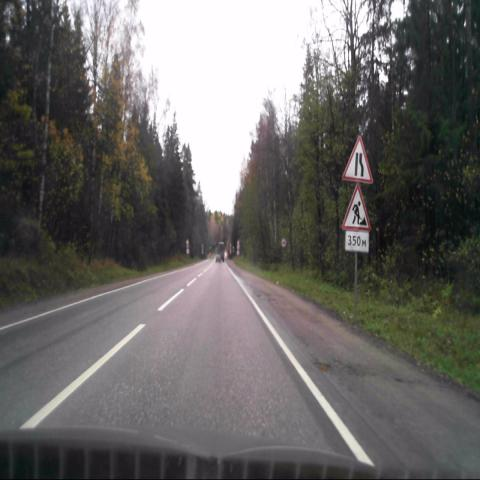8_1_1: (345, 233, 369, 252)
